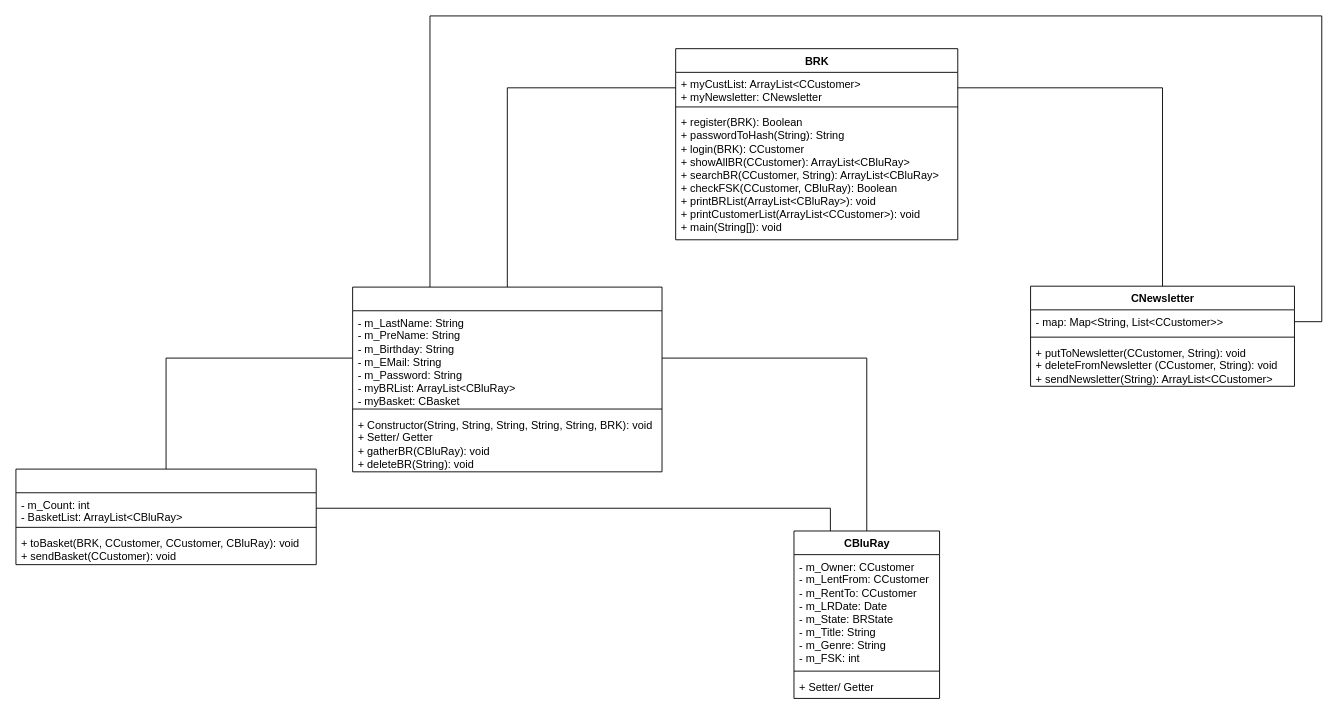
Image size: 1339x717. Some labels were removed from this diagram. Each missing label, with the box of its shape:
CBasket: (15, 468, 316, 565)
CCustomer: (352, 286, 662, 472)
